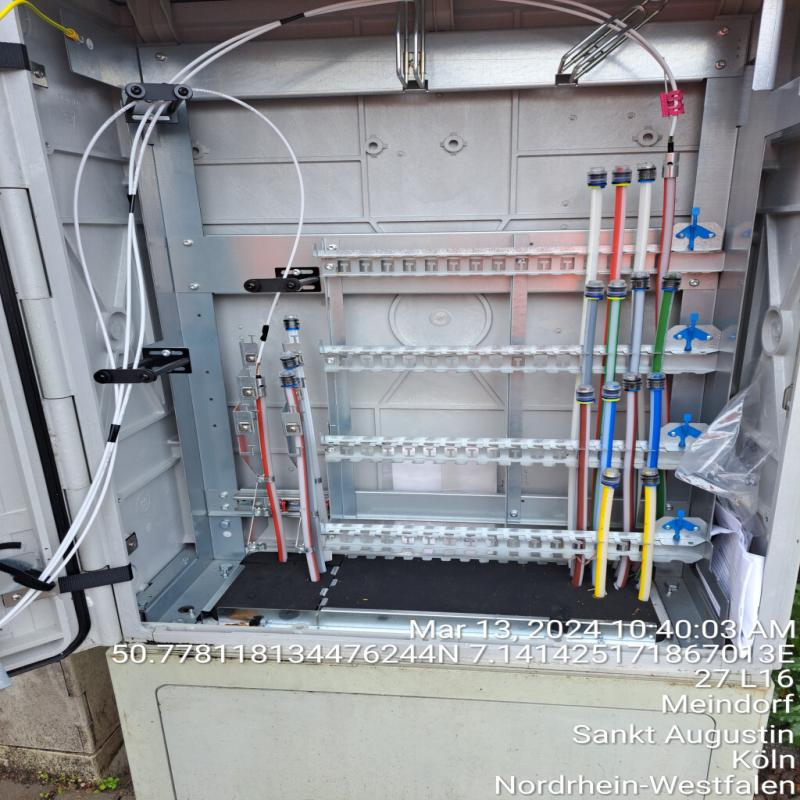NT-Gehause: (0, 0, 788, 800)
